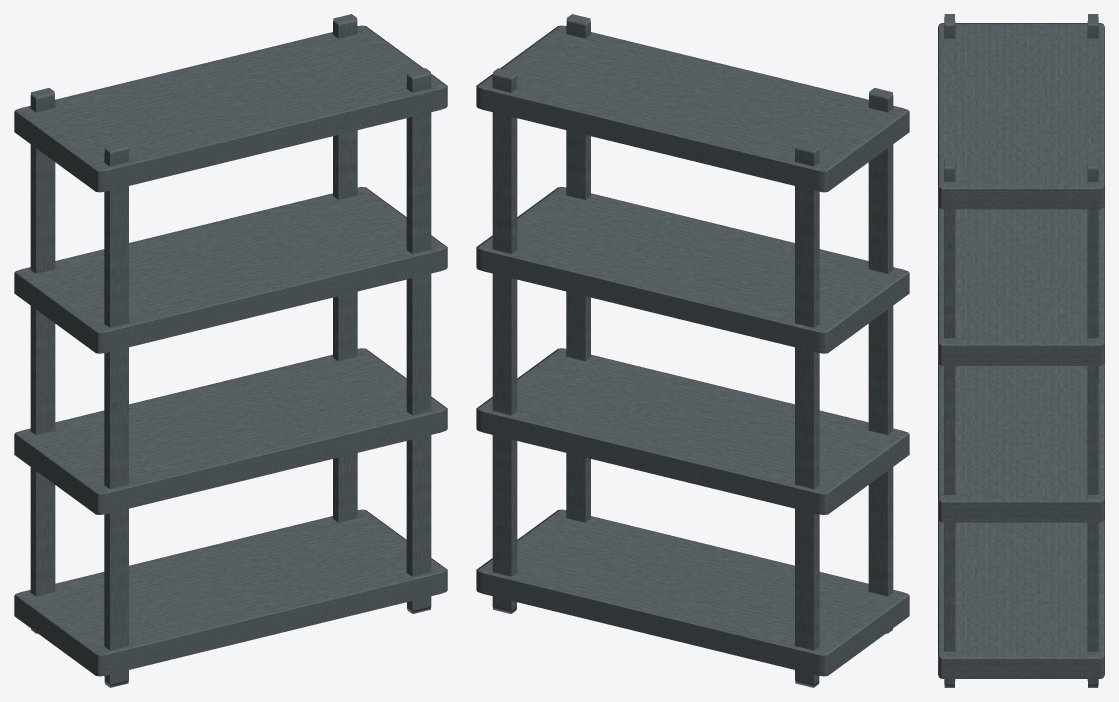
Rendered from parts-rack.glb.
The picture shows the model from 3 angles, left to right: view 1: azimuth 30°, elevation 25°; view 2: azimuth 150°, elevation 25°; view 3: azimuth 270°, elevation 25°; orthographic projection. The views are drawn at different scales.
Visible parts, largest first — view 1: shelf (×4), leg (×4); view 2: shelf (×4), leg (×4); view 3: shelf (×4), leg (×4).
Boxes of the visible parts, box(x1,y1,x2,y2) form: shelf (×4): box(14, 25, 447, 676); leg (×4): box(30, 14, 431, 687); shelf (×4): box(476, 25, 909, 676); leg (×4): box(492, 14, 893, 687); shelf (×4): box(938, 23, 1104, 678); leg (×4): box(944, 14, 1098, 687).
Size of the model in its own units: 1.3 by 1.9 by 0.55.
Materials: 1 (1 with a texture image).
